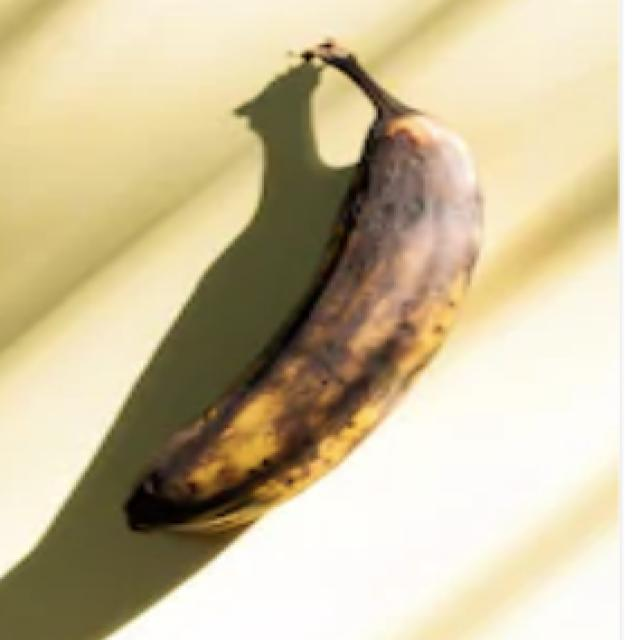banana: (126, 42, 483, 530)
